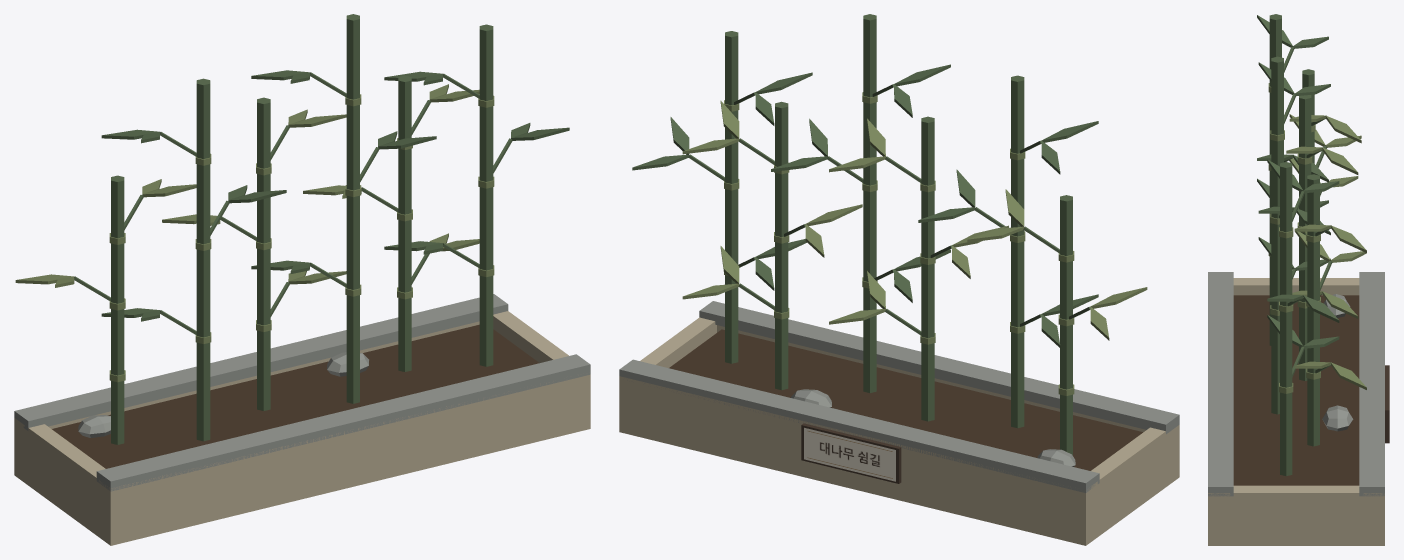
File: W01_Bamboo_Garden.fbx
3 views of the same model, side by side, from view 1: azimuth 30°, elevation 25°; view 2: azimuth 150°, elevation 25°; view 3: azimuth 270°, elevation 25° (orthographic). The views are drawn at different scales.
Parts seen in each view (by area): view 1: Planter, Bamboo, Garden_stones; view 2: Planter, Bamboo, Front_Label, Garden_stones; view 3: Planter, Bamboo, Garden_stones, Front_Label.
Part boxes in pixels (<box>): Planter: <box>14,294,590,545</box>; Bamboo: <box>15,14,569,444</box>; Garden_stones: <box>78,352,368,437</box>; Planter: <box>619,301,1179,545</box>; Bamboo: <box>632,14,1147,455</box>; Front_Label: <box>801,423,901,483</box>; Garden_stones: <box>791,389,1075,466</box>; Planter: <box>1208,272,1384,545</box>; Bamboo: <box>1257,14,1366,476</box>; Garden_stones: <box>1322,294,1353,431</box>; Front_Label: <box>1385,365,1389,443</box>.
Size of the model in its own units: 3.1 by 2.55 by 1.06.
7 materials, 1 textured.
